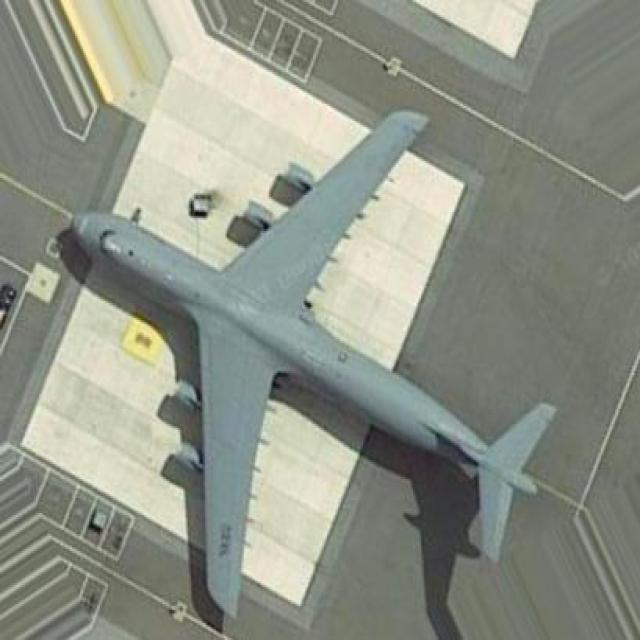C-5_TopDown: (49, 105, 562, 639)
